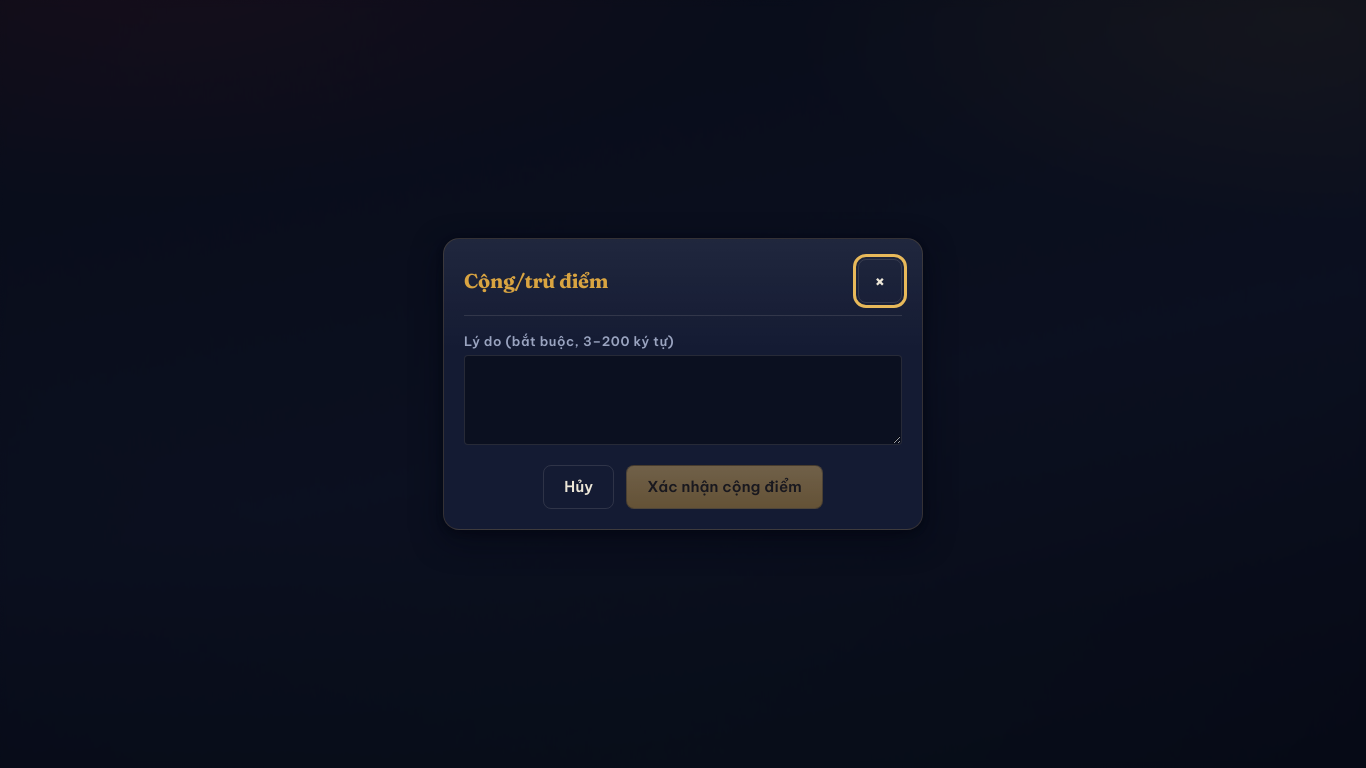
Test case: ReasonDialog › keeps Confirm off until the reason is three characters
The image size is (1366, 768).
Check: the button "Xác nhận cộng điểm" is disabled, box [626,465,823,509]
Type "ab" into the text box labelled "Lý do (bắt buộc, 3–200 ký tự)".
click(683, 400); type("ab")  # box [464,355,902,445]
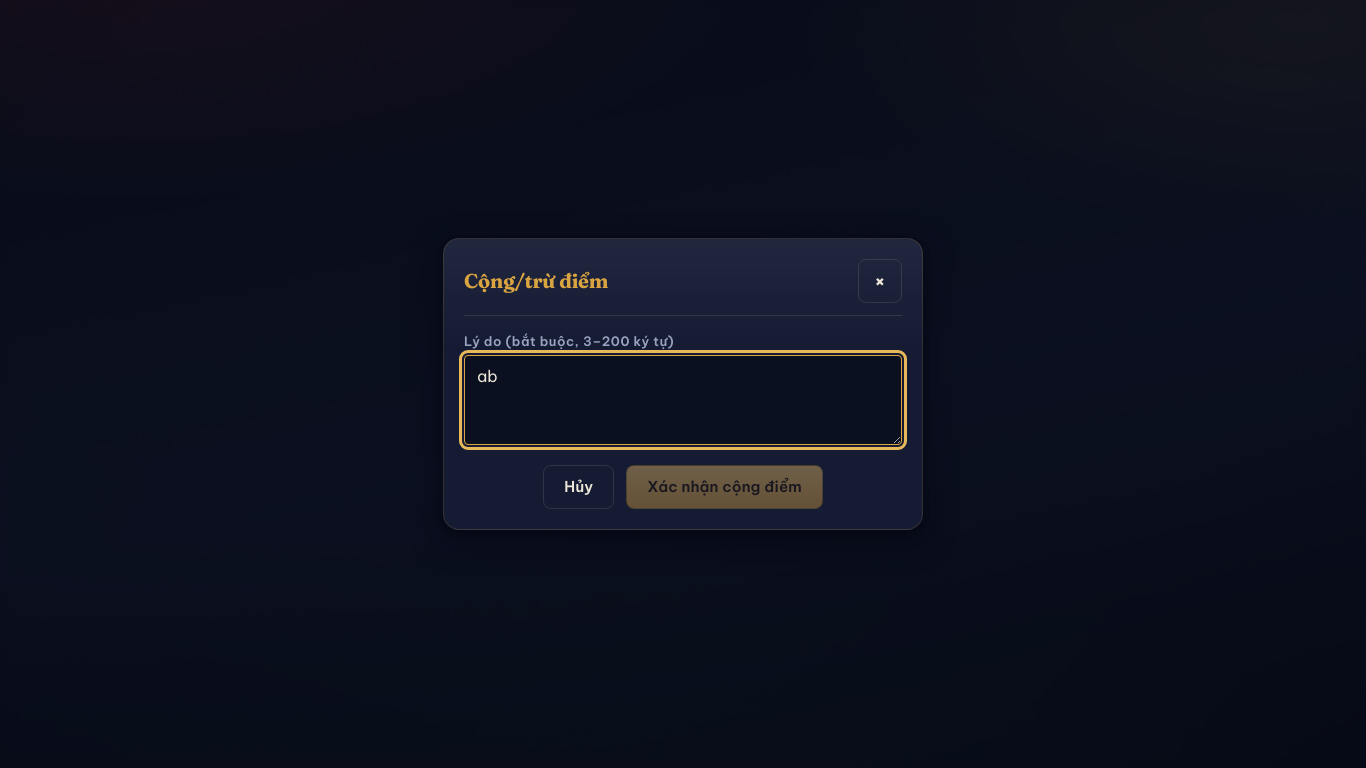
Check: the button "Xác nhận cộng điểm" is disabled, box [626,465,823,509]
Type "c" into the text box labelled "Lý do (bắt buộc, 3–200 ký tự)".
click(683, 400); type("c")  # box [464,355,902,445]
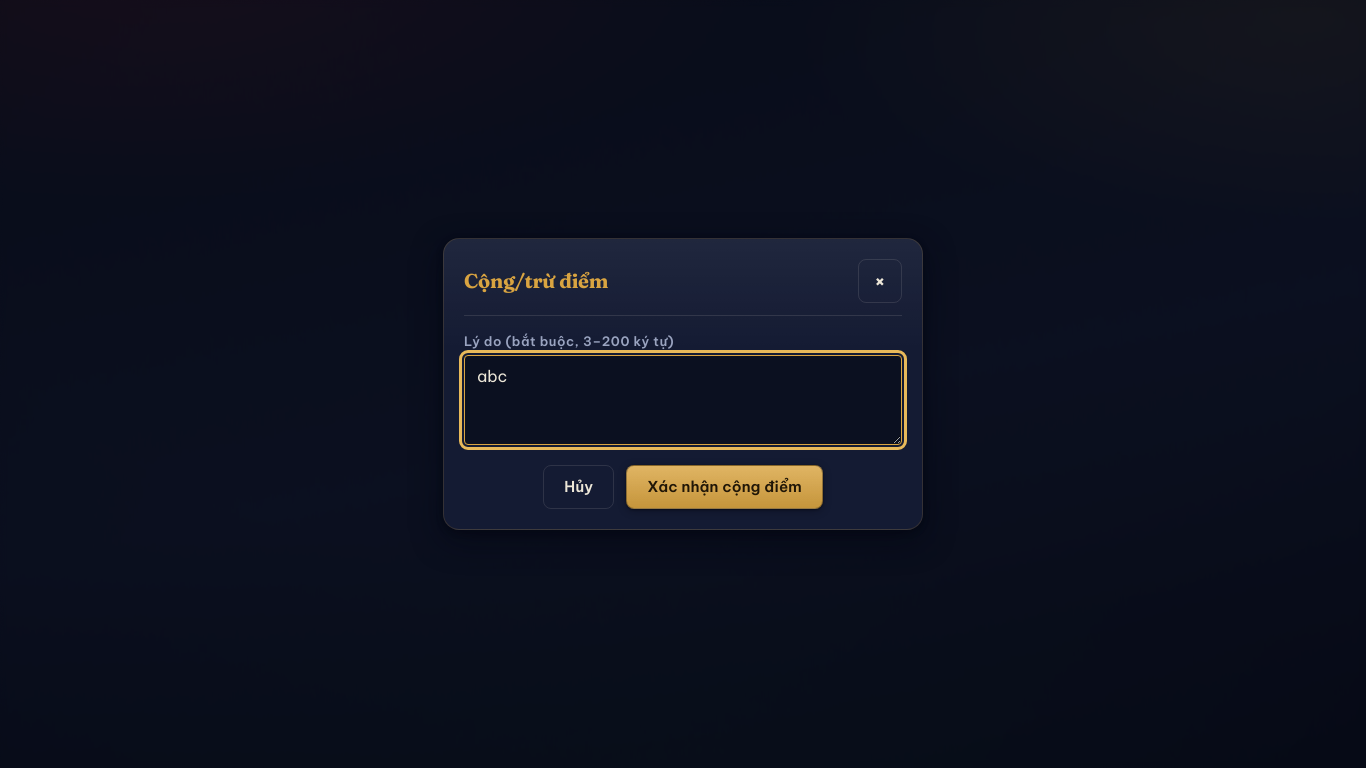
Check: the button "Xác nhận cộng điểm" is enabled, box [626,465,823,509]
